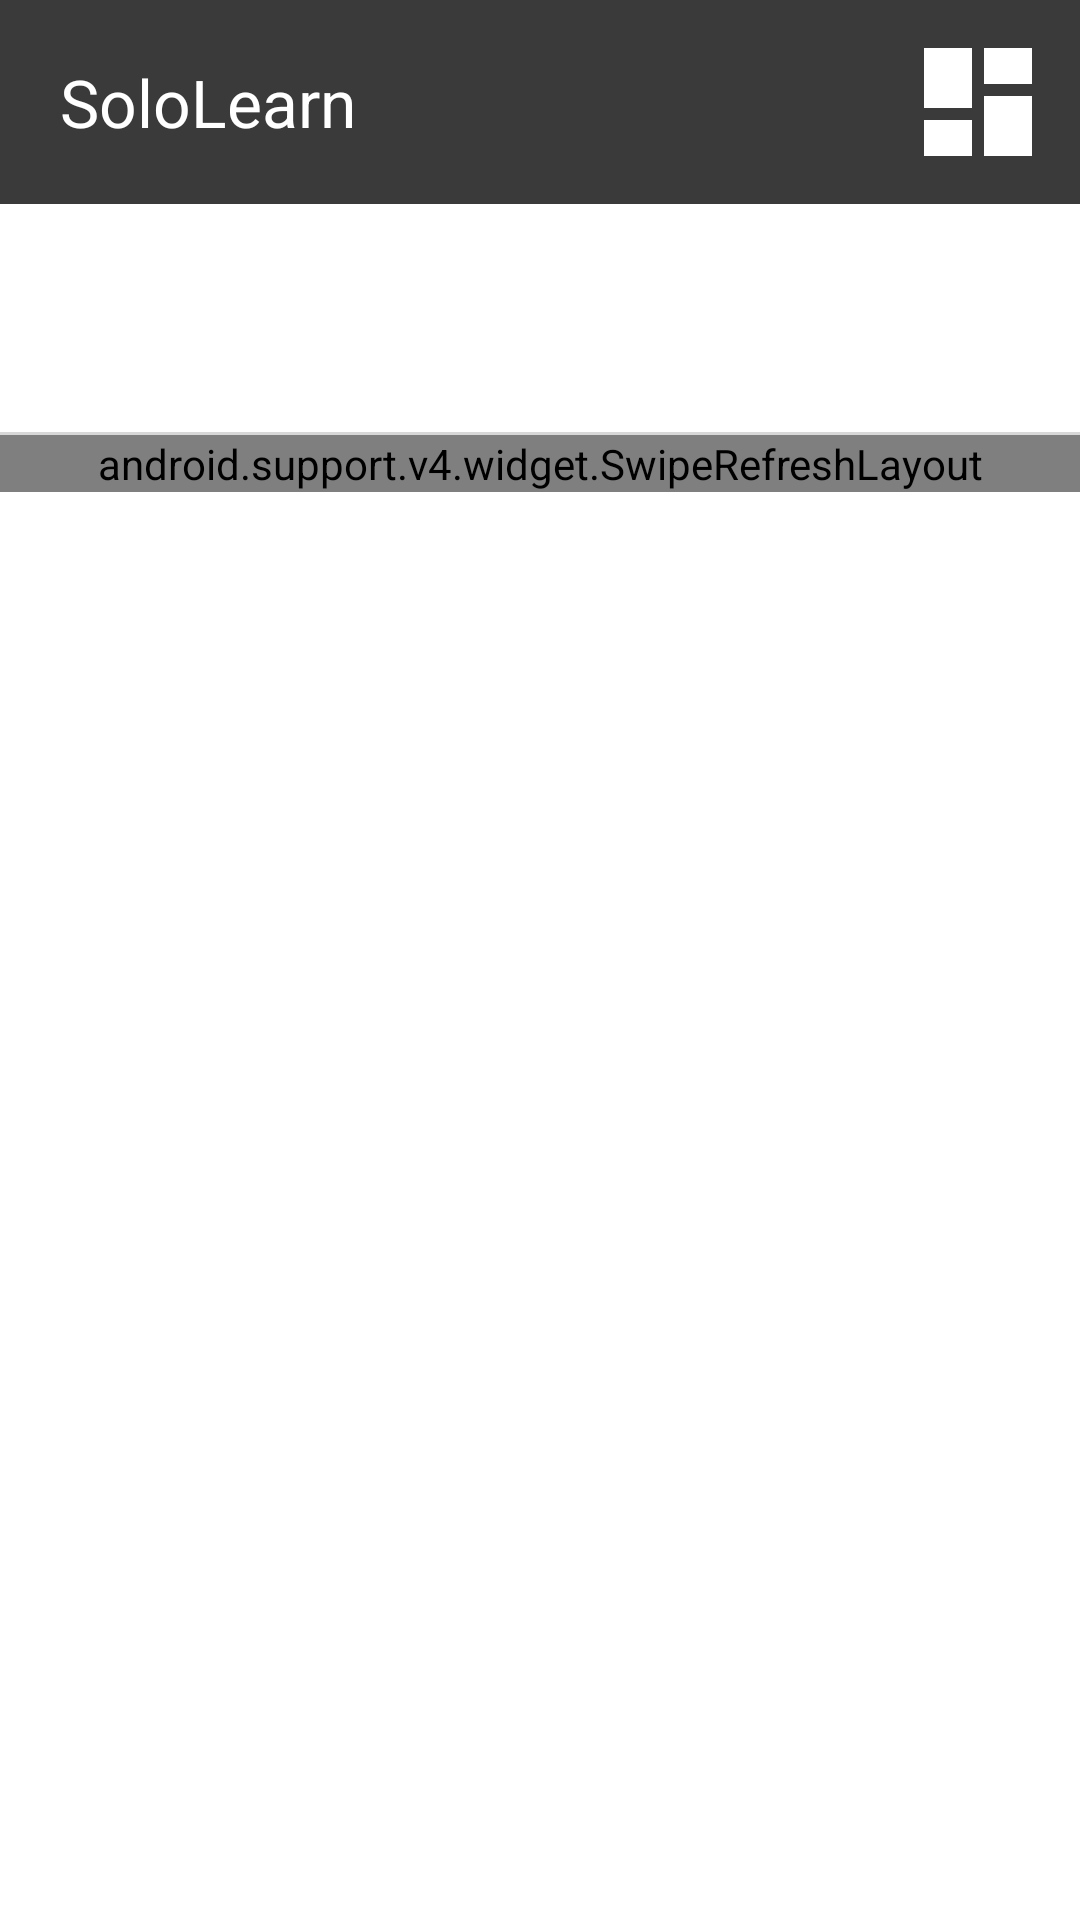

Icons on this 1080*1920 Android screen, each with the point to tap as point (x, y):
staggered: point (978, 102)
